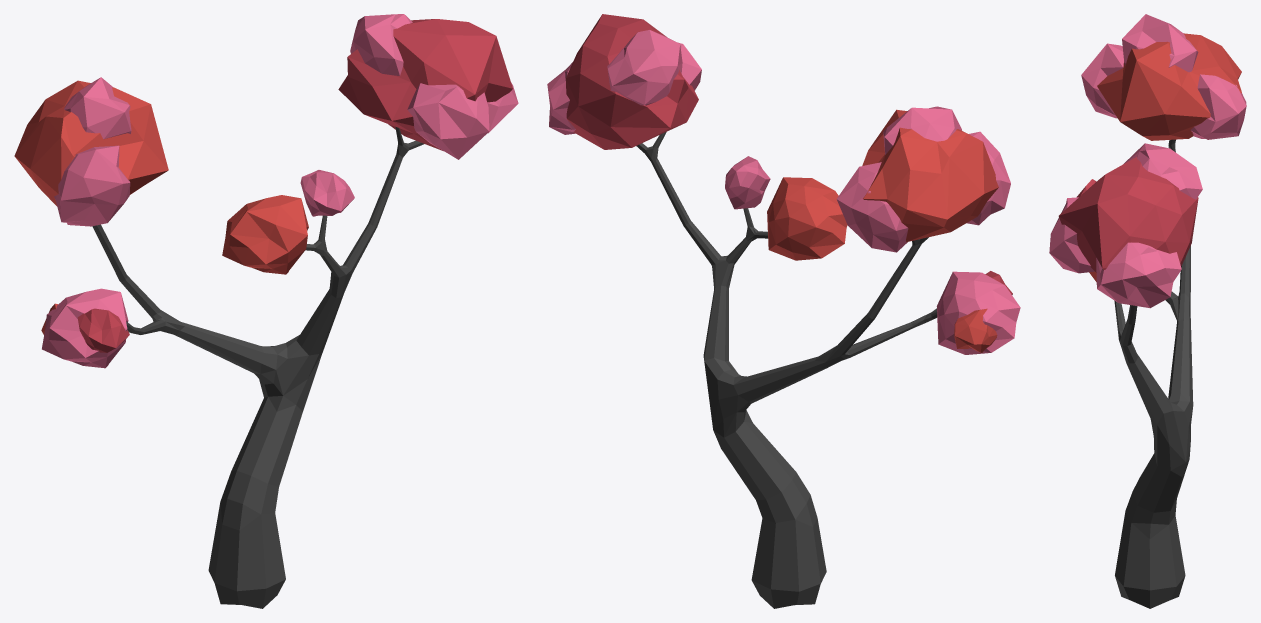
The model's file is Cherry Tree 2.fbx.
The picture shows the model from 3 angles, left to right: view 1: azimuth 30°, elevation 25°; view 2: azimuth 150°, elevation 25°; view 3: azimuth 270°, elevation 25°; orthographic projection. The views are drawn at different scales.
Parts seen in each view (by area): view 1: Cube, Icosphere.007, Icosphere, Icosphere.009, Icosphere.001, Icosphere.004, Icosphere.010, Icosphere.003, Icosphere.005, Icosphere.008, Icosphere.011, Icosphere.006; view 2: Cube, Icosphere, Icosphere.007, Icosphere.009, Icosphere.010, Icosphere.005, Icosphere.002, Icosphere.003, Icosphere.008, Icosphere.012, Icosphere.001, Icosphere.006; view 3: Cube, Icosphere.007, Icosphere, Icosphere.006, Icosphere.002, Icosphere.003, Icosphere.005, Icosphere.001, Icosphere.004.
Part boxes in pixels (bbox=[...]): Cube: bbox=[92, 126, 423, 608]; Icosphere.007: bbox=[338, 19, 512, 150]; Icosphere: bbox=[14, 80, 168, 205]; Icosphere.009: bbox=[222, 195, 308, 274]; Icosphere.001: bbox=[54, 145, 130, 226]; Icosphere.004: bbox=[407, 83, 489, 159]; Icosphere.010: bbox=[42, 288, 128, 368]; Icosphere.003: bbox=[64, 77, 131, 139]; Icosphere.005: bbox=[350, 14, 412, 75]; Icosphere.008: bbox=[300, 170, 354, 216]; Icosphere.011: bbox=[77, 308, 129, 352]; Icosphere.006: bbox=[487, 82, 518, 133]; Cube: bbox=[636, 132, 937, 608]; Icosphere: bbox=[862, 109, 998, 241]; Icosphere.007: bbox=[566, 14, 698, 149]; Icosphere.009: bbox=[767, 177, 847, 260]; Icosphere.010: bbox=[936, 271, 1020, 354]; Icosphere.005: bbox=[607, 30, 682, 105]; Icosphere.002: bbox=[836, 162, 908, 252]; Icosphere.003: bbox=[883, 106, 961, 154]; Icosphere.008: bbox=[725, 156, 770, 209]; Icosphere.012: bbox=[954, 308, 997, 352]; Icosphere.001: bbox=[966, 131, 1010, 225]; Icosphere.006: bbox=[547, 62, 575, 134]; Cube: bbox=[1114, 139, 1193, 608]; Icosphere.007: bbox=[1058, 157, 1198, 272]; Icosphere: bbox=[1097, 33, 1241, 140]; Icosphere.006: bbox=[1096, 242, 1181, 308]; Icosphere.002: bbox=[1190, 74, 1246, 139]; Icosphere.003: bbox=[1122, 14, 1198, 72]; Icosphere.005: bbox=[1124, 143, 1202, 199]; Icosphere.001: bbox=[1081, 43, 1123, 118]; Icosphere.004: bbox=[1049, 197, 1094, 273].
Size of the model in its own units: 1098 by 1240 by 426.
